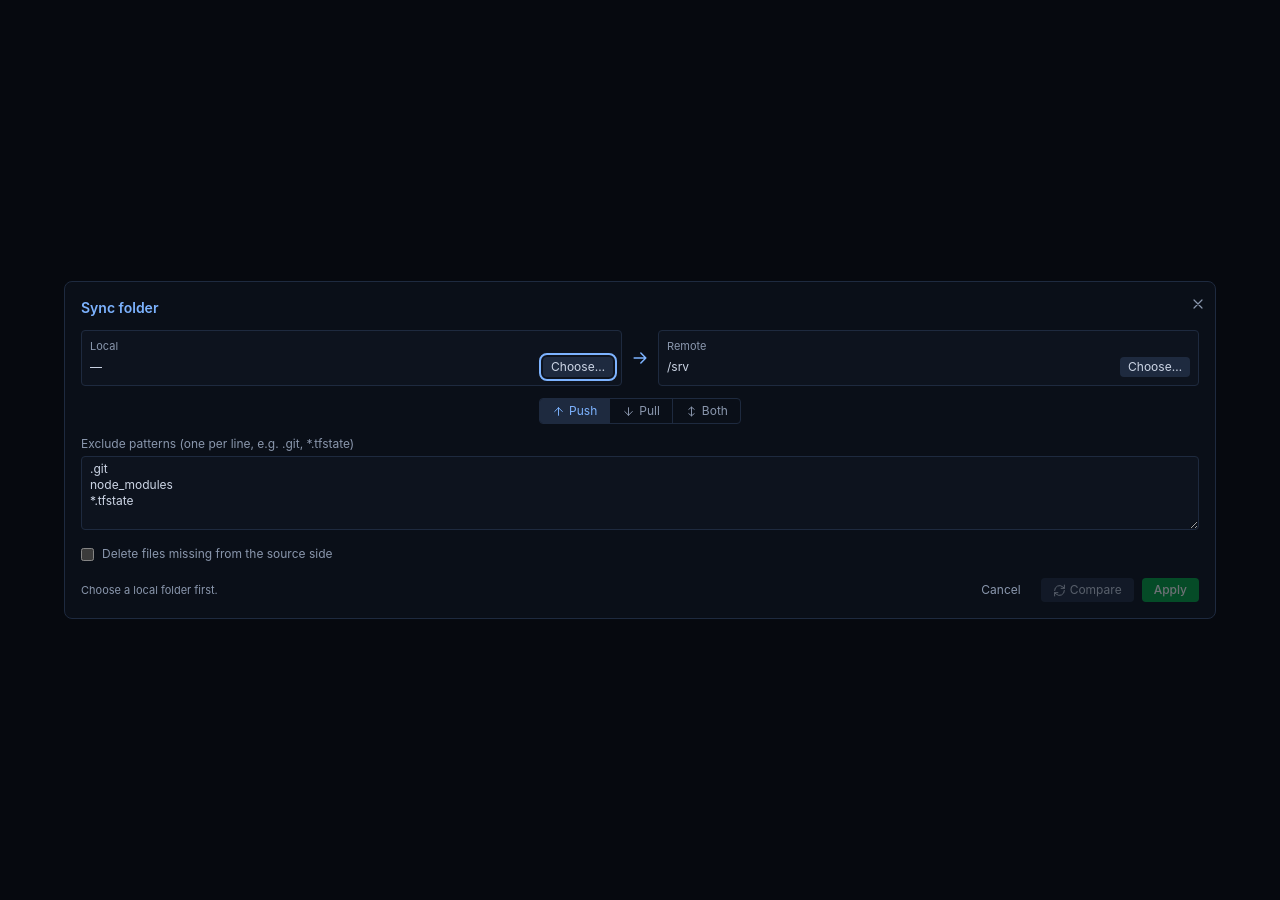
SyncModal › keeps working when the stop is declined
Click the button with aria-label "Choose local folder" at (578, 367), box [543, 357, 613, 377]
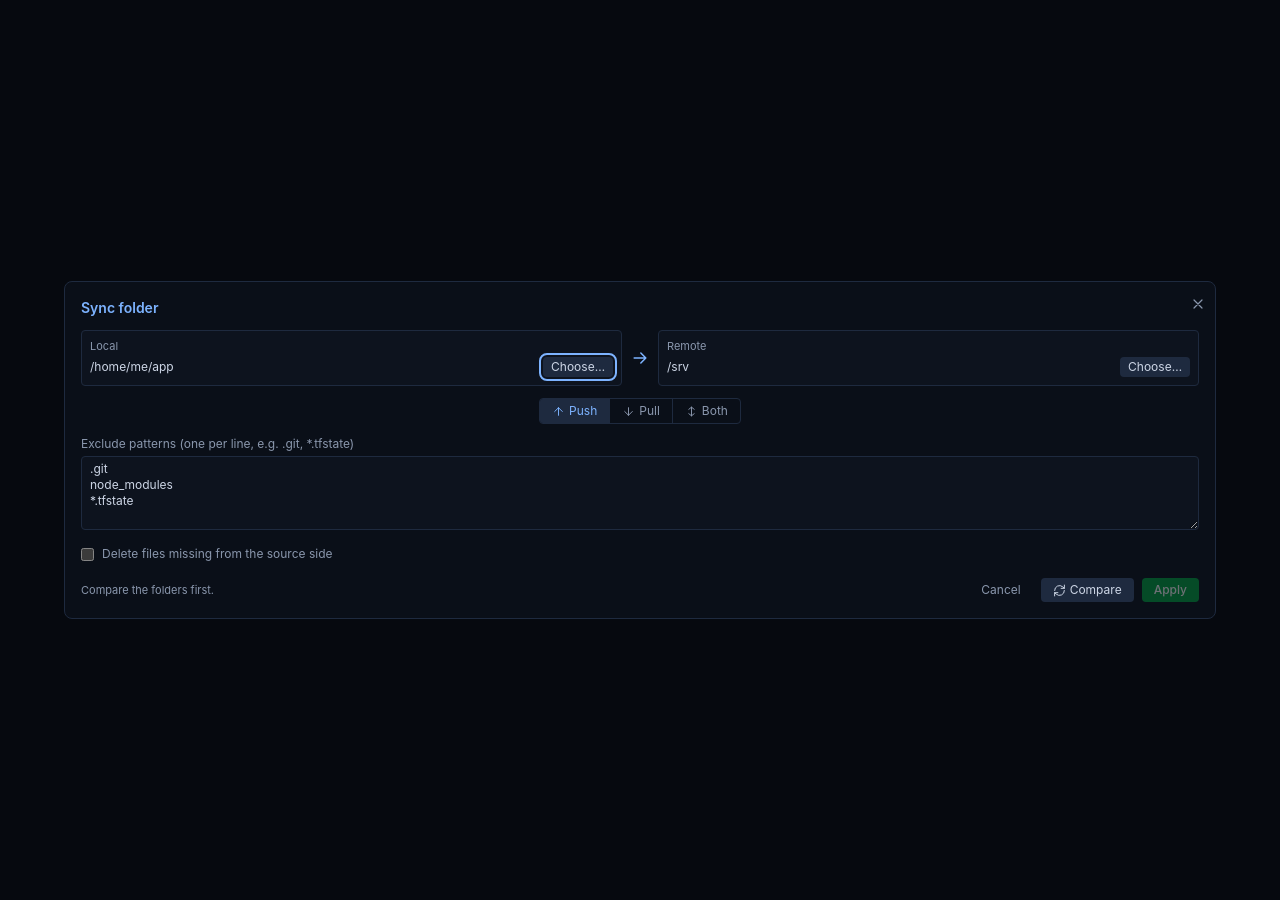
Click the button "Compare" at (1087, 590), box [1041, 578, 1134, 602]
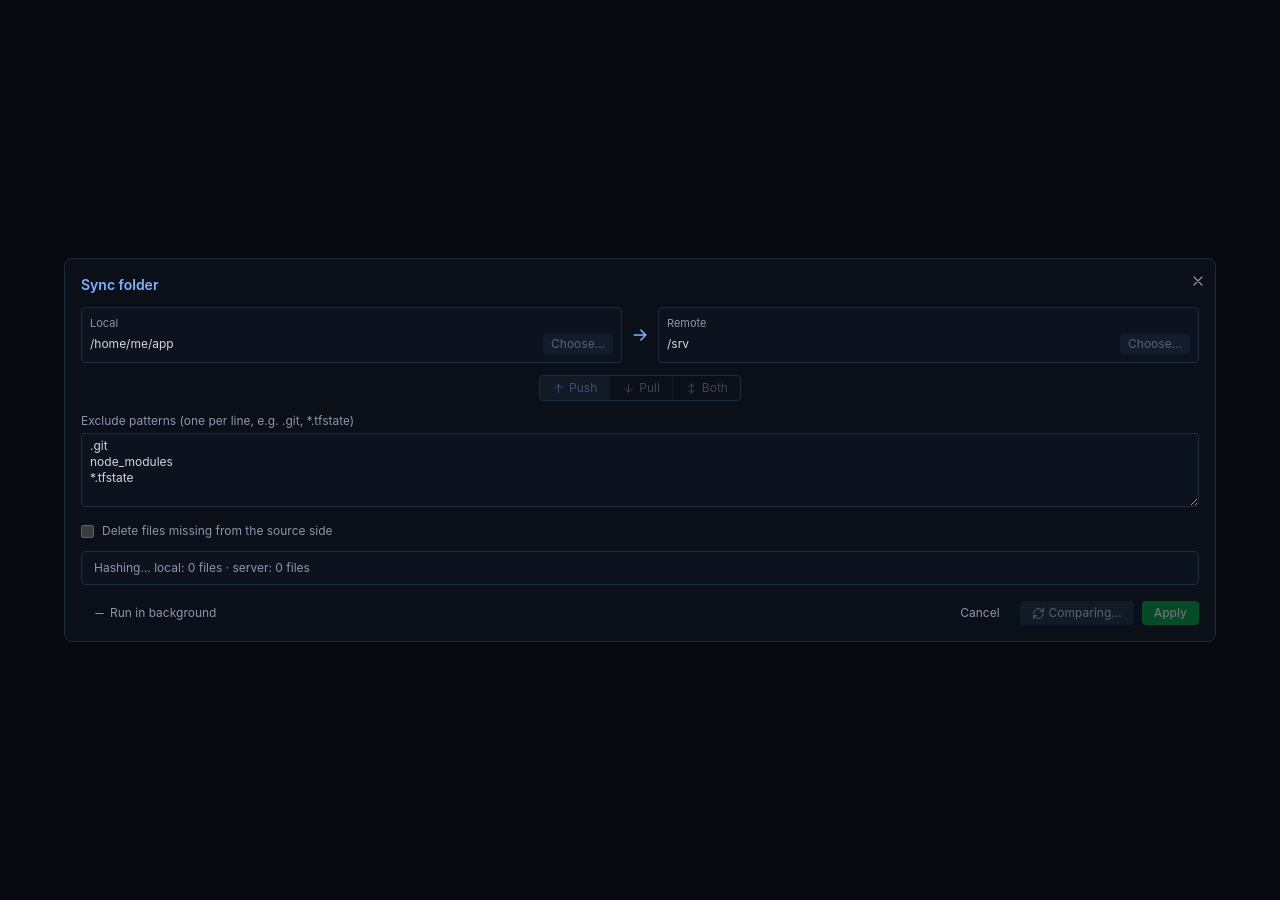
Click the button named "Close" at (1198, 280), box [1188, 266, 1208, 294]
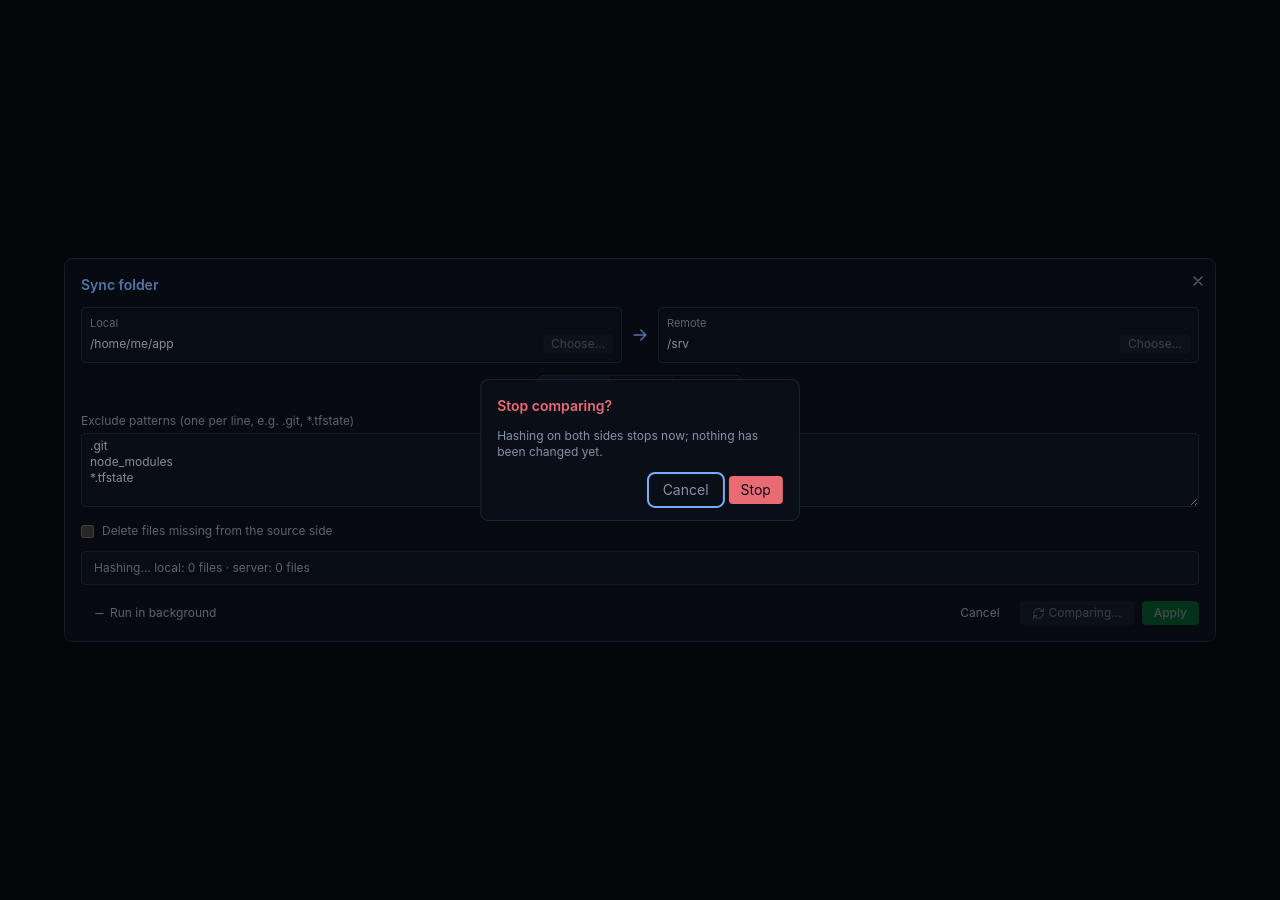
Expected: the heading "Stop comparing?" is shown, [497, 397, 612, 414]
Press Escape
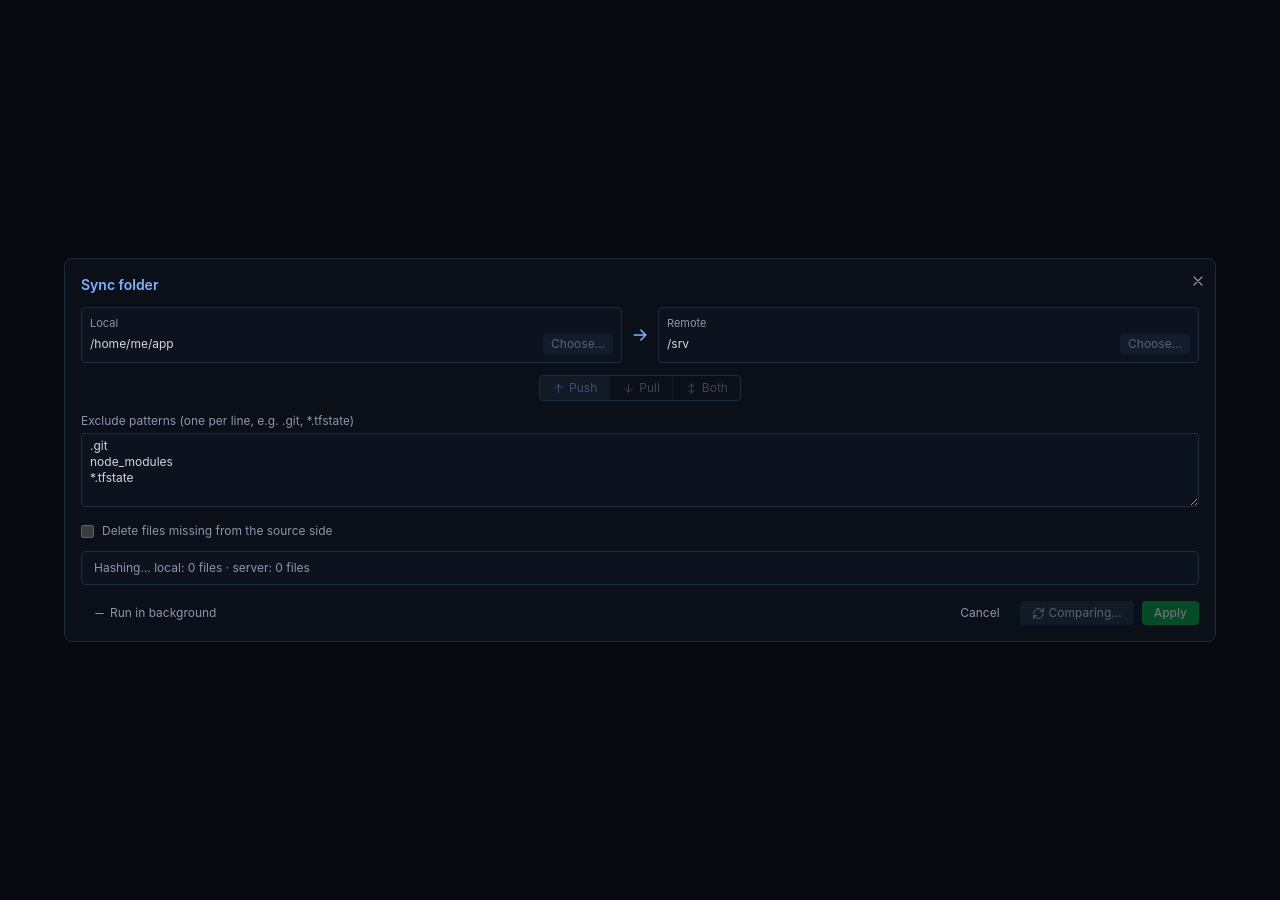
Expected: the button "Comparing…" is shown, [1020, 601, 1134, 625]
Expected: the heading "Stop comparing?" is gone
